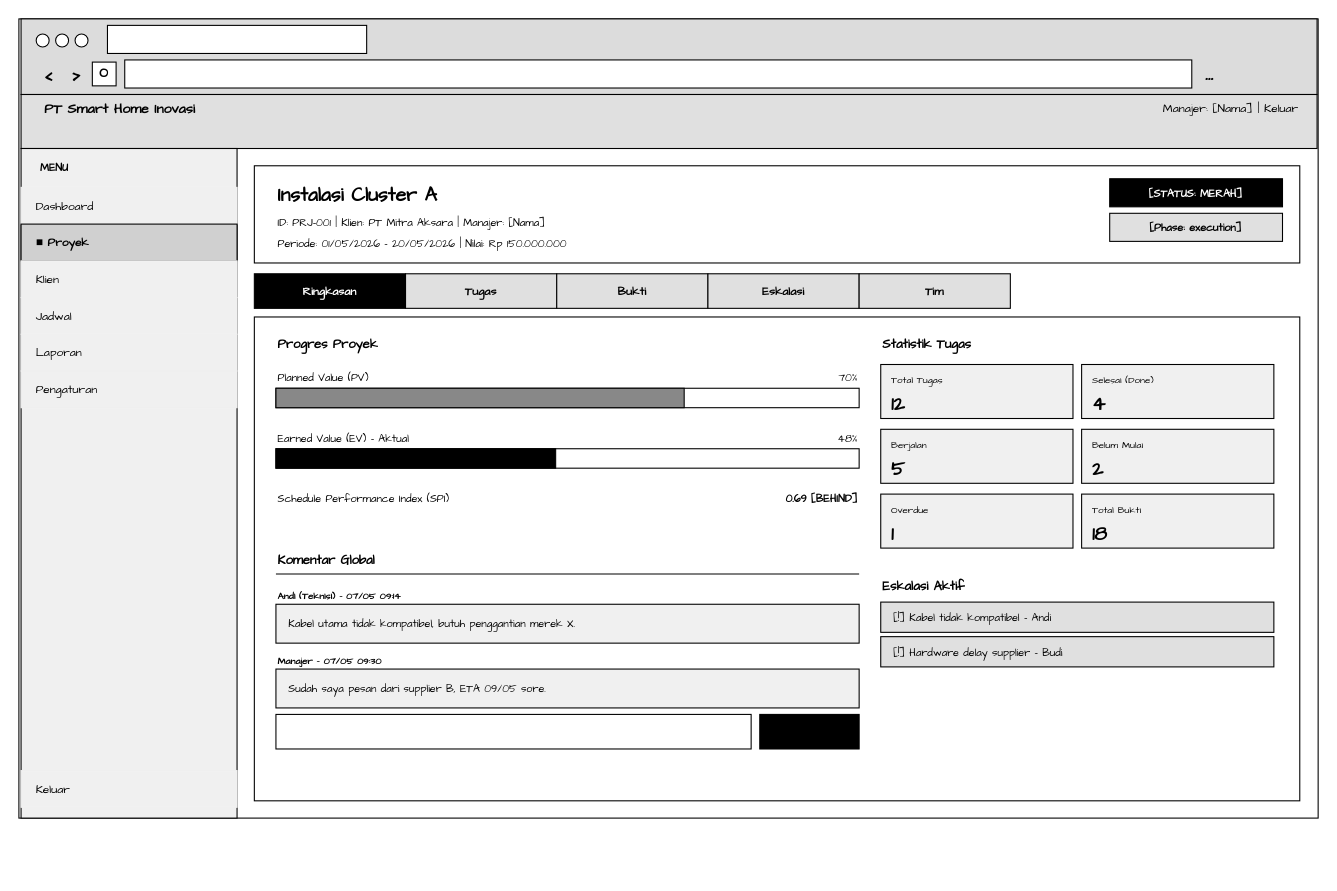
The diagram is 1337 pixels wide and 891 high, and some of its shapes have lost their labels. Here are the shapes that lost their labels. From the top down, the centre of each, then its label:
point (236, 38): Detail Proyek - SHI
point (658, 73): https://shi-crm.id/proyek/PRJ-001
point (513, 731): Tulis komentar...
point (809, 731): Kirim
